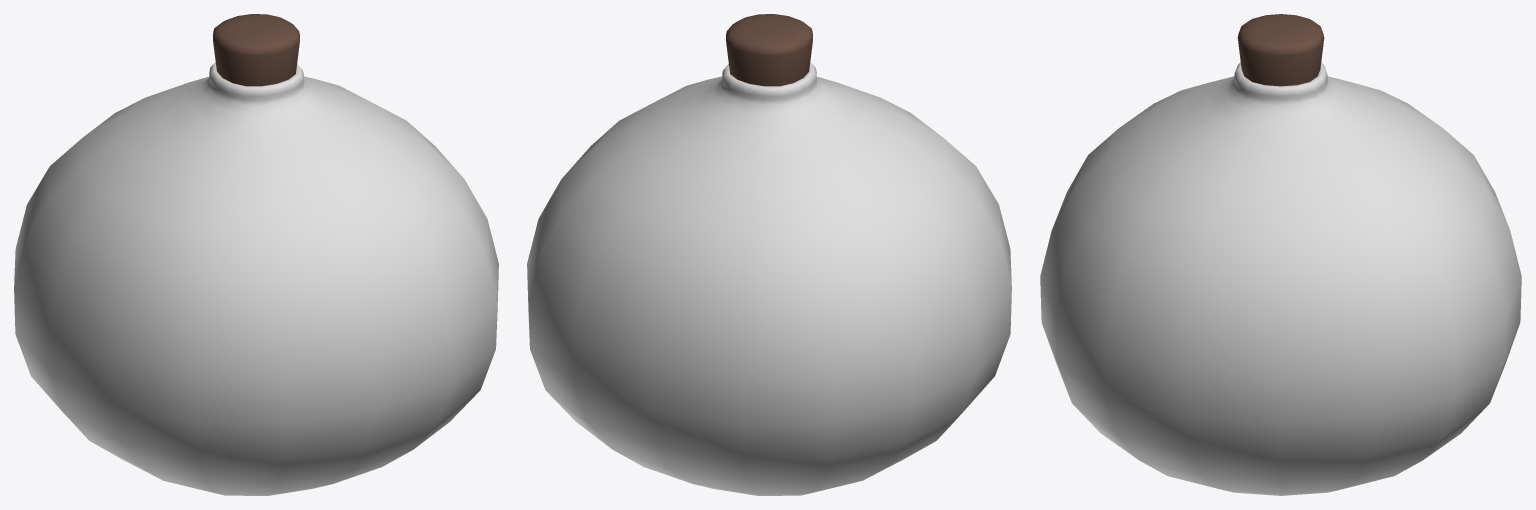
File: Potion9_Filled.glb
3 views of the same model, side by side, from view 1: azimuth 30°, elevation 25°; view 2: azimuth 150°, elevation 25°; view 3: azimuth 270°, elevation 25° (orthographic).
Parts seen in each view (by area): view 1: Potion9_Filled; view 2: Potion9_Filled; view 3: Potion9_Filled.
Part boxes in pixels (x1=…): Potion9_Filled: x1=14, y1=14, x2=498, y2=495; Potion9_Filled: x1=527, y1=14, x2=1011, y2=495; Potion9_Filled: x1=1040, y1=14, x2=1521, y2=495.
Size of the model in its own units: 1.26 by 1.29 by 1.26.
